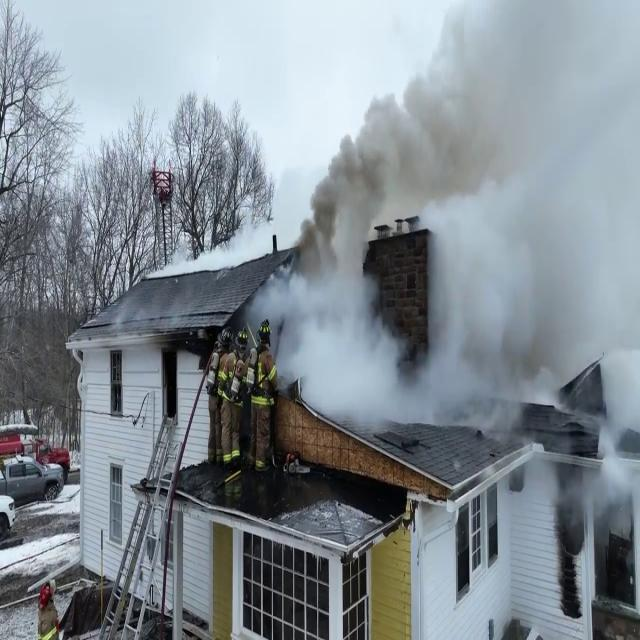Smoke: (240, 7, 640, 430)
